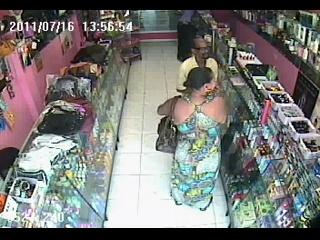Normal: (156, 67, 229, 212), (176, 35, 220, 94), (155, 95, 180, 154), (121, 46, 142, 65)
